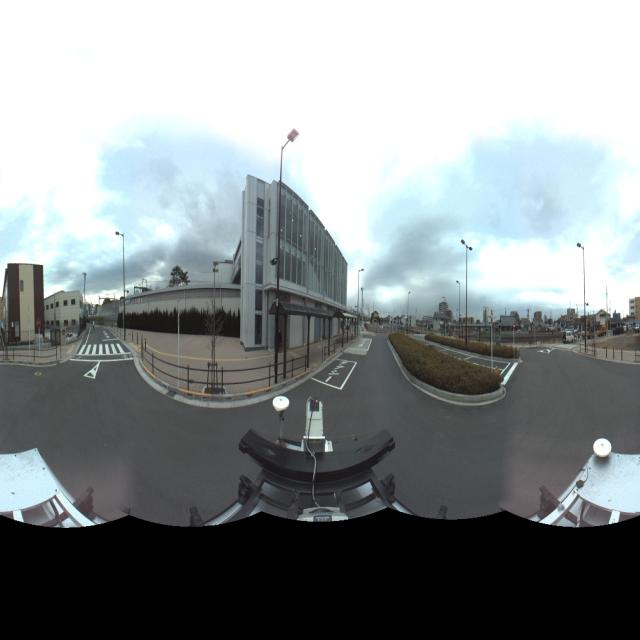b_1: (242, 178, 350, 349), (2, 253, 50, 354), (50, 276, 94, 341)
